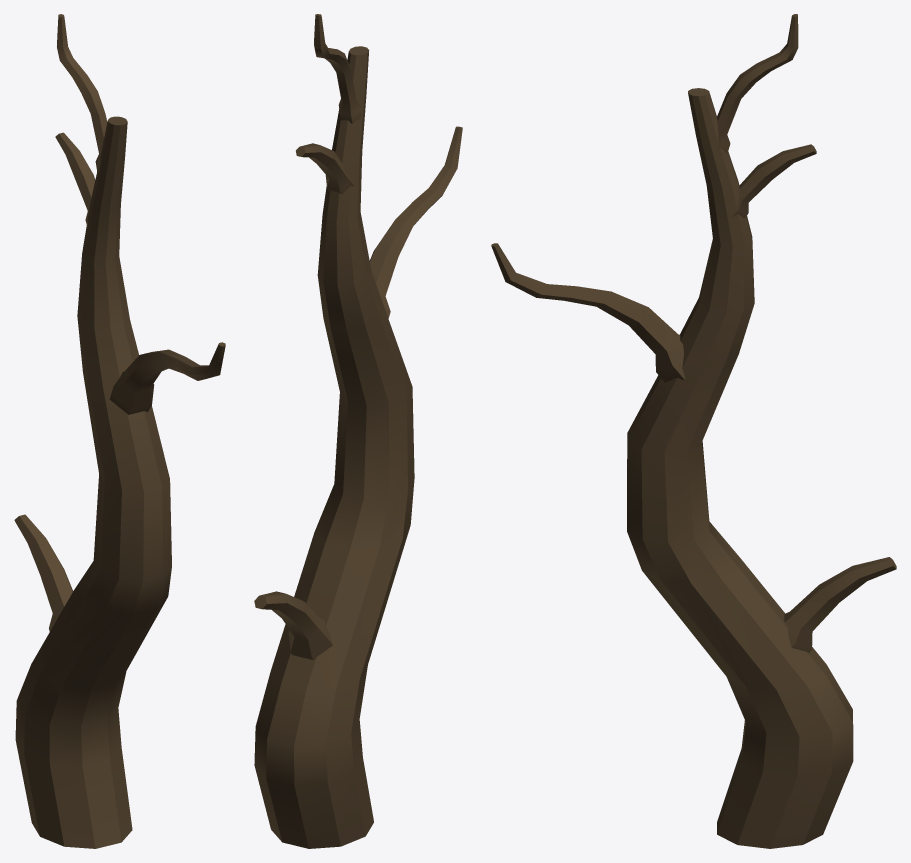
The model's file is shuguan2.fbx.
3 views of the same model, side by side, from view 1: azimuth 30°, elevation 25°; view 2: azimuth 150°, elevation 25°; view 3: azimuth 270°, elevation 25° (orthographic). The views are drawn at different scales.
Visible parts, largest first — view 1: polySurface91; view 2: polySurface91; view 3: polySurface91.
Part boxes in pixels (x1,y1,x2,y2): polySurface91: (14, 14, 225, 848); polySurface91: (254, 14, 462, 848); polySurface91: (491, 14, 896, 848).
Bounding box in the file's own units: 0.6696 × 5.8 × 2.63.
